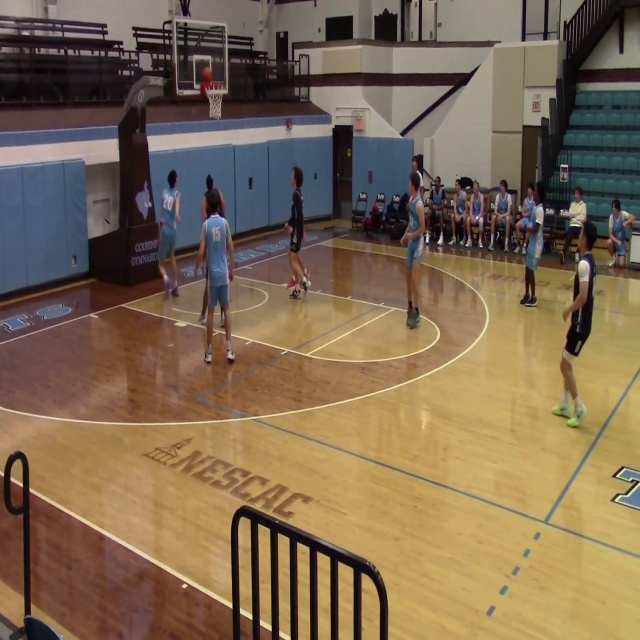Basketball: (203, 67, 212, 81), (400, 236, 408, 246)
